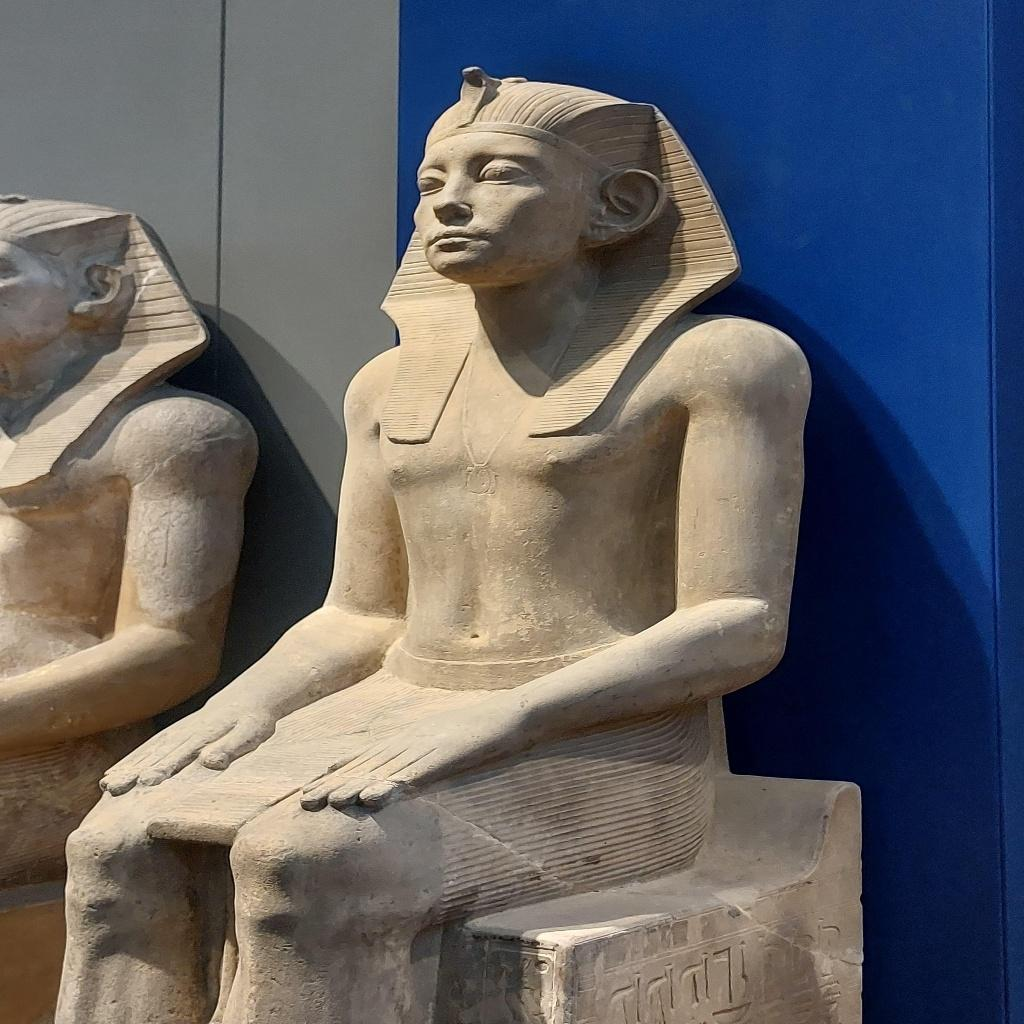King Amenemhat 3: (72, 63, 806, 928)
